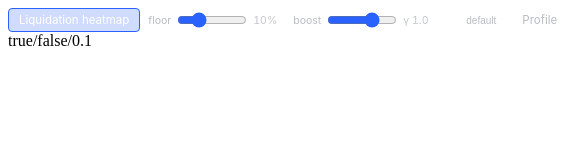
Test: the overlay toggles section › writes the tuning back when a slider moves
The image size is (574, 160).
Set the slider with test id "workspace-density-floor" to "0.25": coordinates (219, 20) [177,12,247,28]
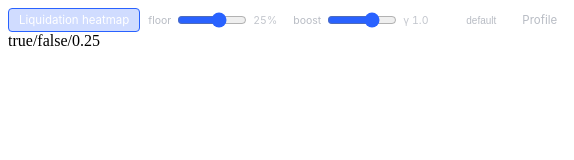
Result: the text with test id "overlays" reads "true/false/0.25" at [8,32,100,49]
